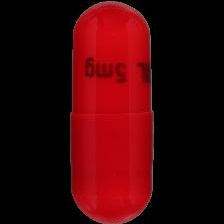68180-590: (0, 0, 224, 224)
